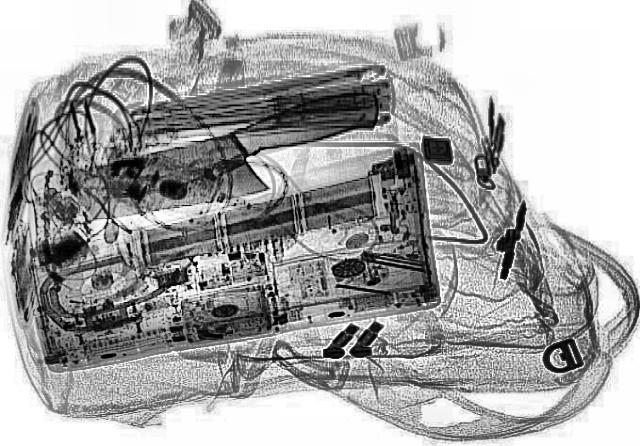Knife: (51, 84, 410, 240)
